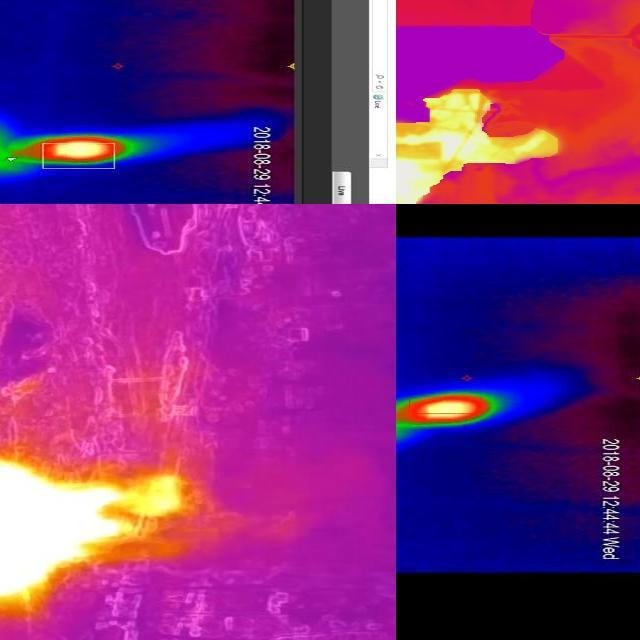fire: (397, 92, 566, 205), (1, 463, 124, 604), (9, 131, 145, 167), (397, 396, 530, 428)
